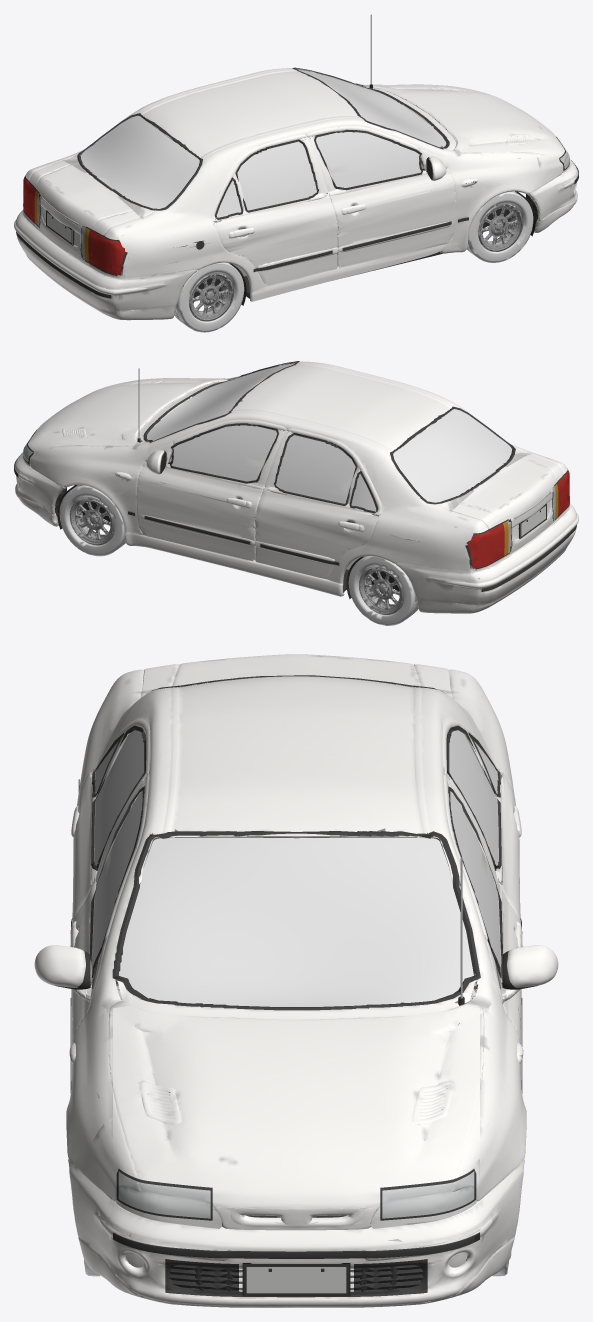
File: barao.glb
3 renders of one model, top to bottom at view 1: azimuth 30°, elevation 25°; view 2: azimuth 150°, elevation 25°; view 3: azimuth 270°, elevation 25°, orthographic. The views are drawn at different scales.
Visible parts, largest first — view 1: body, door_fr, door_rr, hood, glass_rear, bumper_rear, trunk, fender_front_right, glass_door_rr, glass_door_fr, glass_windshield, side_skirt_right (+8 smaller); view 2: body, door_fl, door_rl, hood, glass_rear, bumper_rear, trunk, fender_front_left, glass_door_rl, glass_door_fl, glass_windshield, side_skirt_left (+8 smaller); view 3: body, hood, glass_windshield, bumper_front, trunk, fender_front_left, fender_front_right, grille, headlight_left, headlight_right, plate_front, glass_door_rl (+9 smaller).
Boxes of the visible parts, bbox=[...] form: body: bbox=[23, 14, 560, 318]; door_fr: bbox=[314, 129, 455, 267]; door_rr: bbox=[214, 139, 337, 288]; hood: bbox=[373, 84, 561, 164]; glass_rear: bbox=[81, 116, 199, 208]; bumper_rear: bbox=[14, 210, 176, 320]; trunk: bbox=[27, 159, 146, 237]; fender_front_right: bbox=[449, 151, 543, 239]; glass_door_rr: bbox=[216, 141, 317, 217]; glass_door_fr: bbox=[316, 132, 421, 187]; glass_windshield: bbox=[298, 70, 446, 147]; side_skirt_right: bbox=[246, 237, 465, 300]; body: bbox=[32, 361, 569, 611]; door_fl: bbox=[137, 423, 278, 561]; door_rl: bbox=[255, 433, 378, 581]; hood: bbox=[31, 378, 223, 457]; glass_rear: bbox=[393, 409, 511, 502]; bumper_rear: bbox=[416, 503, 578, 613]; trunk: bbox=[446, 453, 565, 530]; fender_front_left: bbox=[49, 445, 143, 532]; glass_door_rl: bbox=[276, 435, 376, 510]; glass_door_fl: bbox=[171, 425, 277, 481]; glass_windshield: bbox=[147, 363, 294, 440]; side_skirt_left: bbox=[126, 530, 346, 596]; body: bbox=[54, 665, 538, 1292]; hood: bbox=[113, 1003, 479, 1209]; glass_windshield: bbox=[119, 837, 473, 1006]; bumper_front: bbox=[76, 1173, 516, 1307]; trunk: bbox=[115, 654, 477, 699]; fender_front_left: bbox=[480, 995, 526, 1261]; fender_front_right: bbox=[66, 995, 112, 1253]; grille: bbox=[165, 1259, 427, 1297]; headlight_left: bbox=[375, 1164, 481, 1225]; headlight_right: bbox=[111, 1164, 217, 1225]; plate_front: bbox=[239, 1259, 353, 1296]; glass_door_rl: bbox=[446, 730, 498, 865].
Size of the model in its own units: 4.39 by 1.58 by 2.
Materials: 12 (7 with a texture image).
